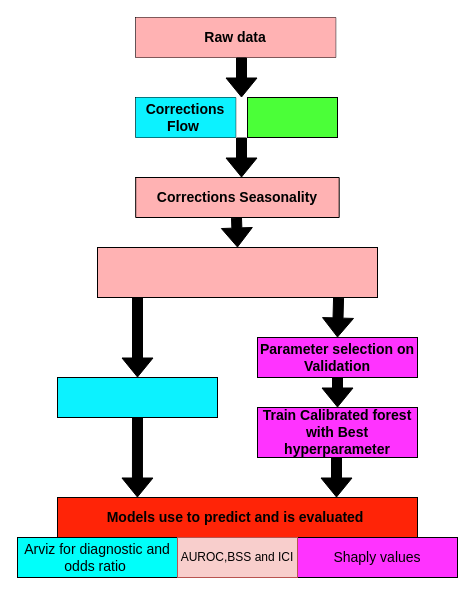
The diagram is 475 pixels wide and 595 high, and some of its shapes have lost their labels. Here are the shapes that lost their labels. From the top down, the centre of each, then its label:
At (x=292, y=117): "Non correction".
At (x=237, y=272): "shuffled nested Cross validation fit Z-scale and KNN on train transform Test".
At (x=137, y=397): "Hierarchical Bayesian Logistic regression".
